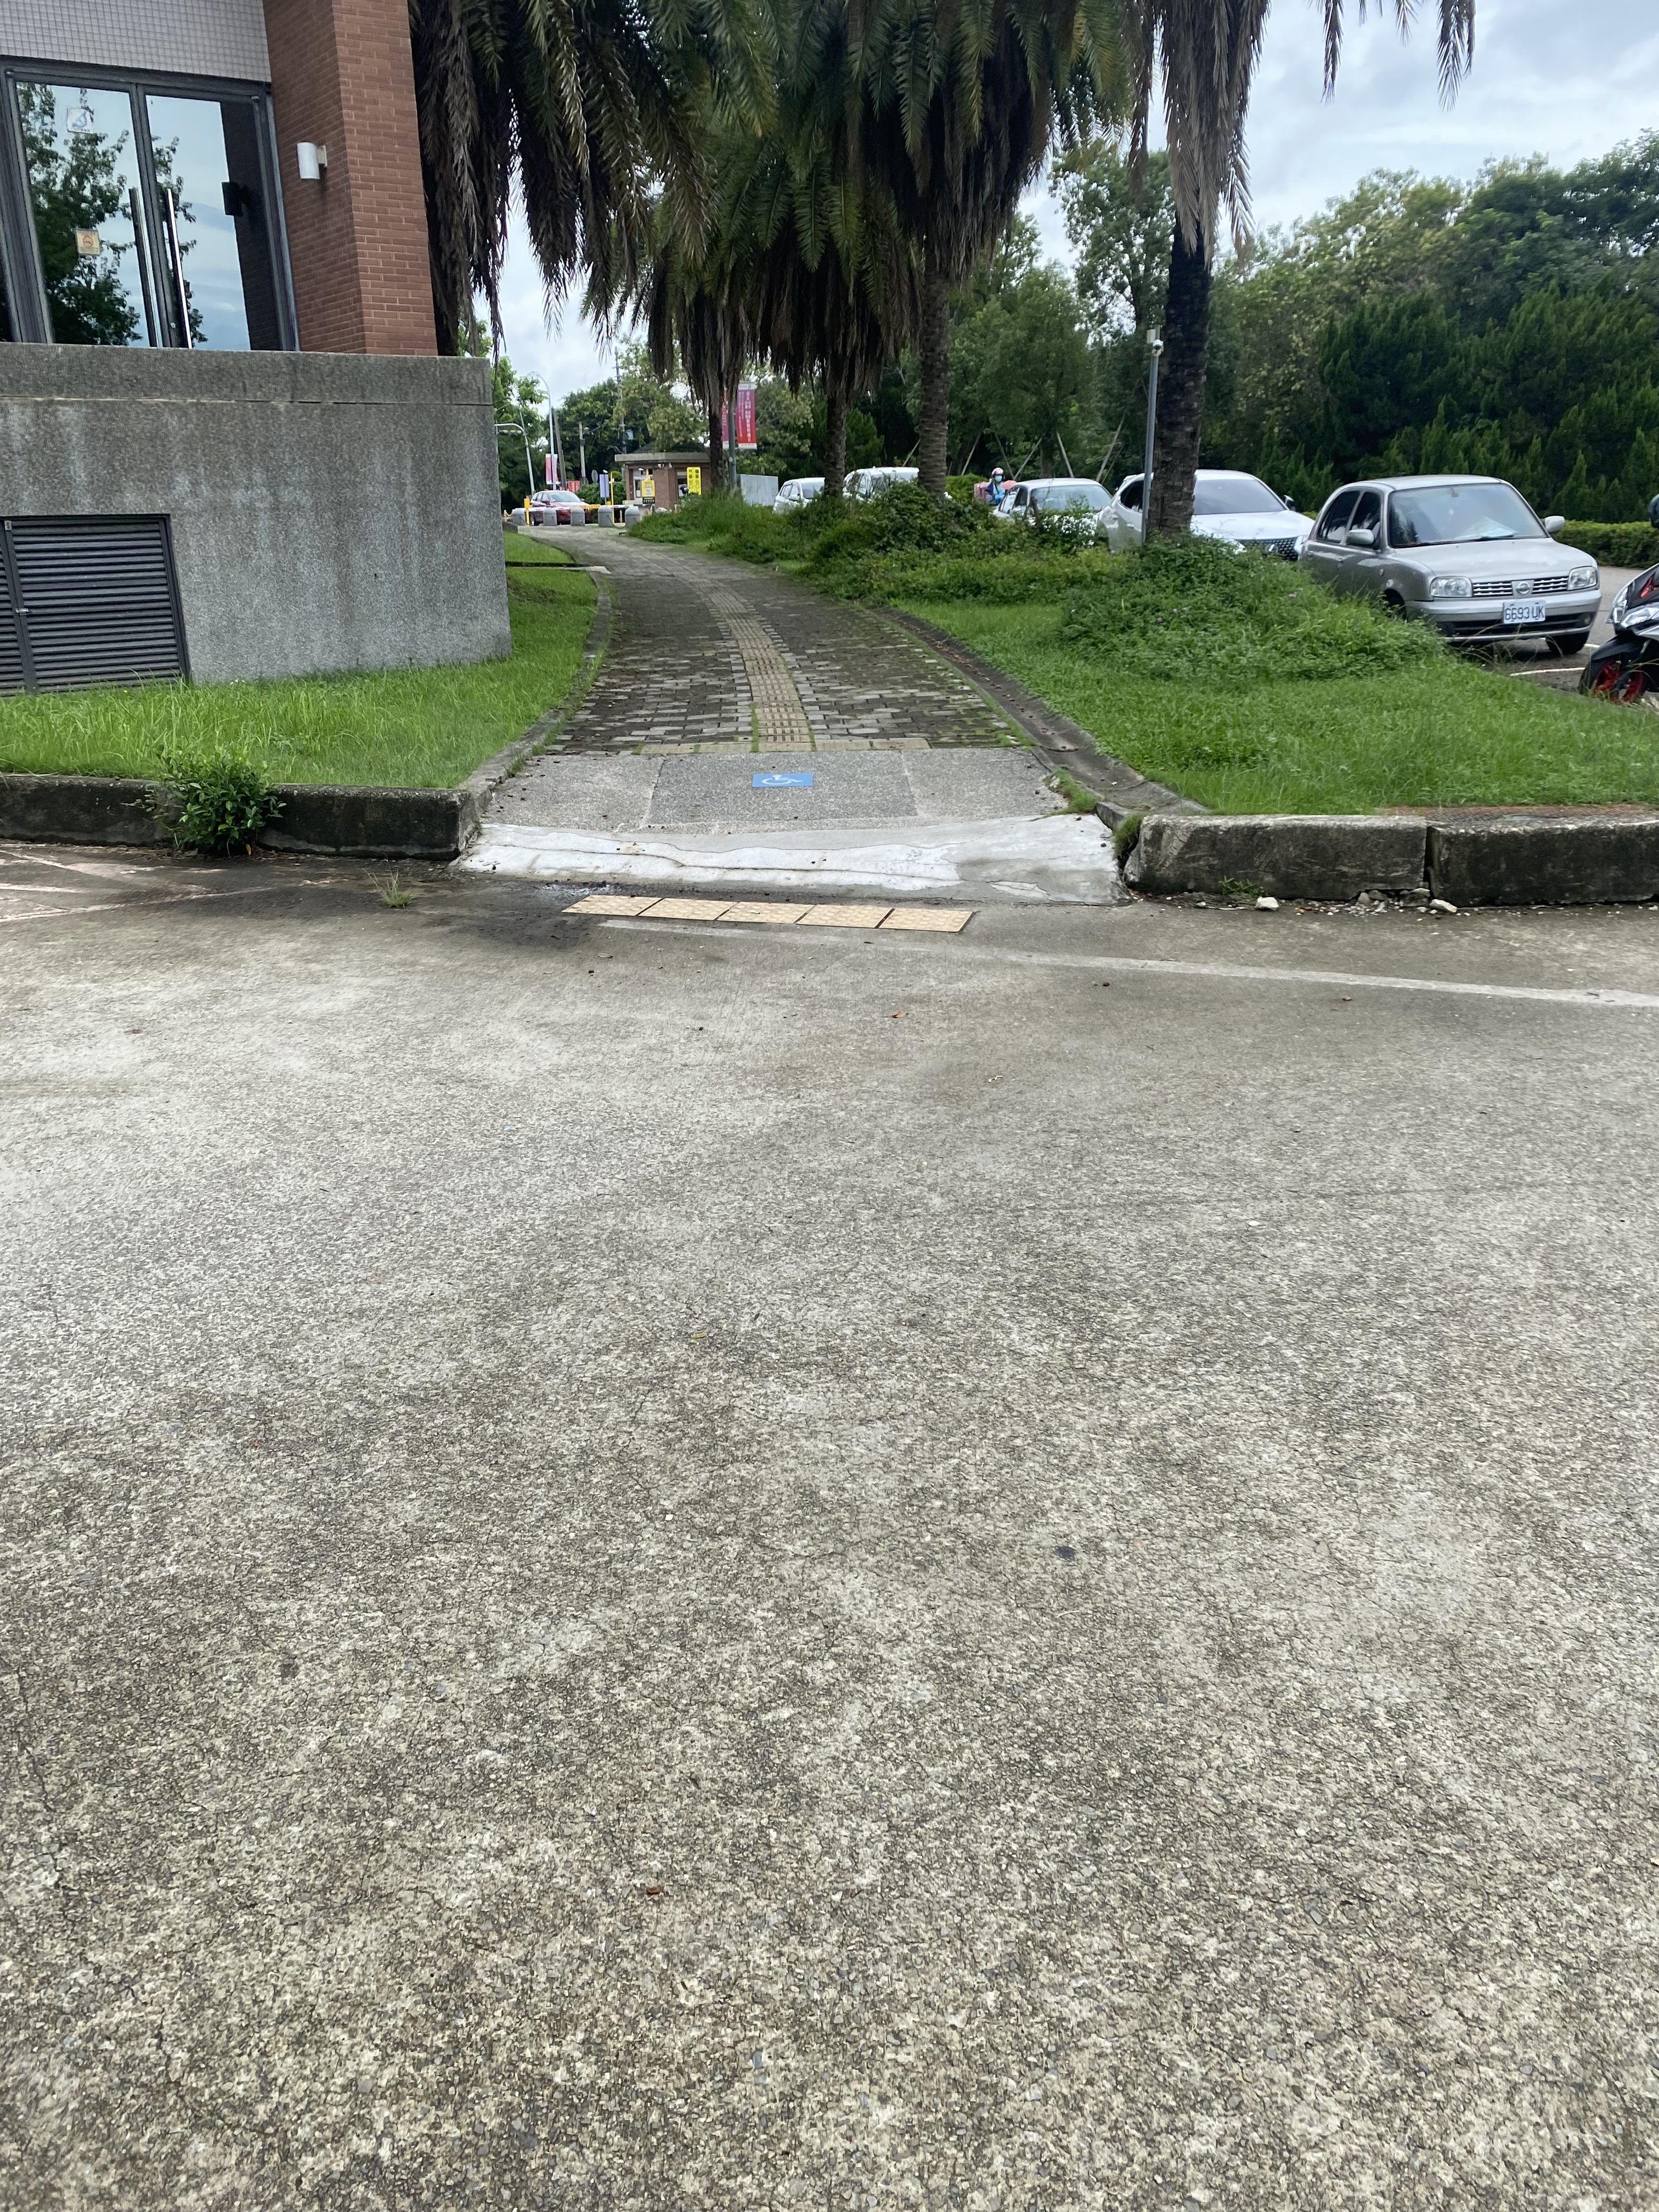sidewalk: (491, 495, 1124, 989)
